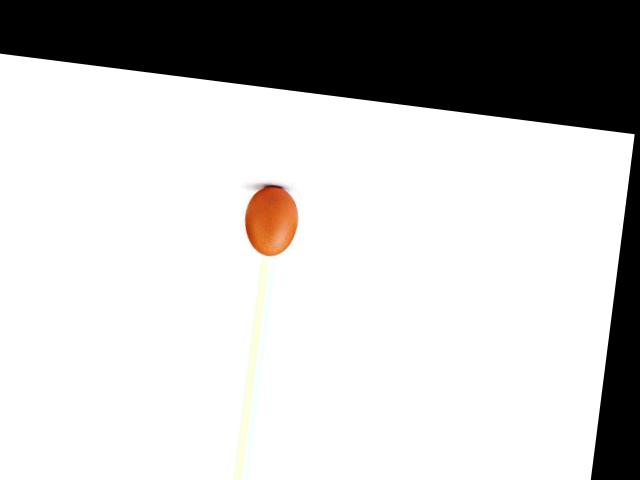egg: (241, 182, 300, 258)
